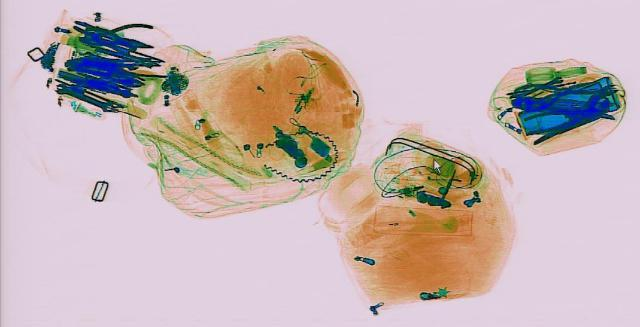Pliers: (68, 15, 172, 62), (532, 75, 632, 117), (511, 101, 613, 135), (63, 17, 157, 50)
Wrench: (46, 81, 120, 113)
